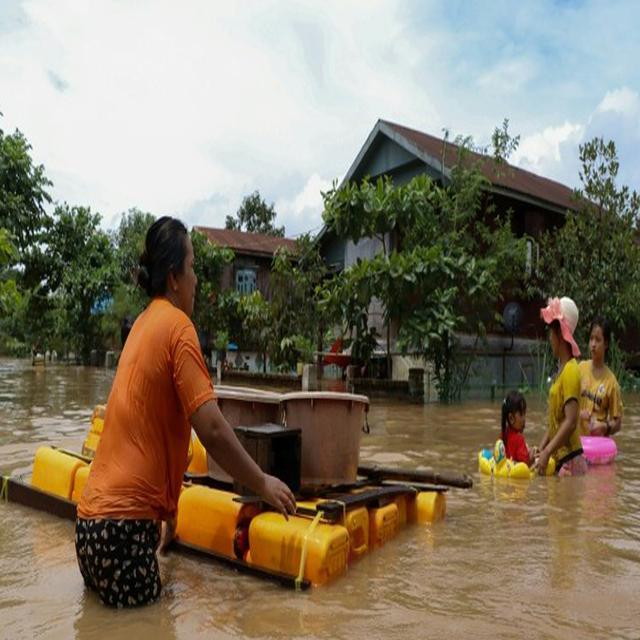Person-RiskLevel2: (49, 214, 308, 624), (525, 291, 617, 479)
Person-RiskLevel3: (471, 379, 556, 501)
